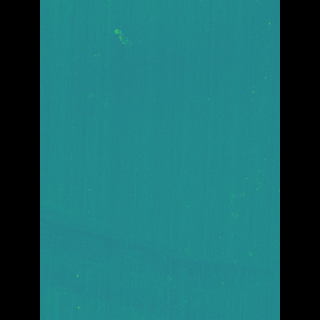Loch: (68, 204, 228, 320)
